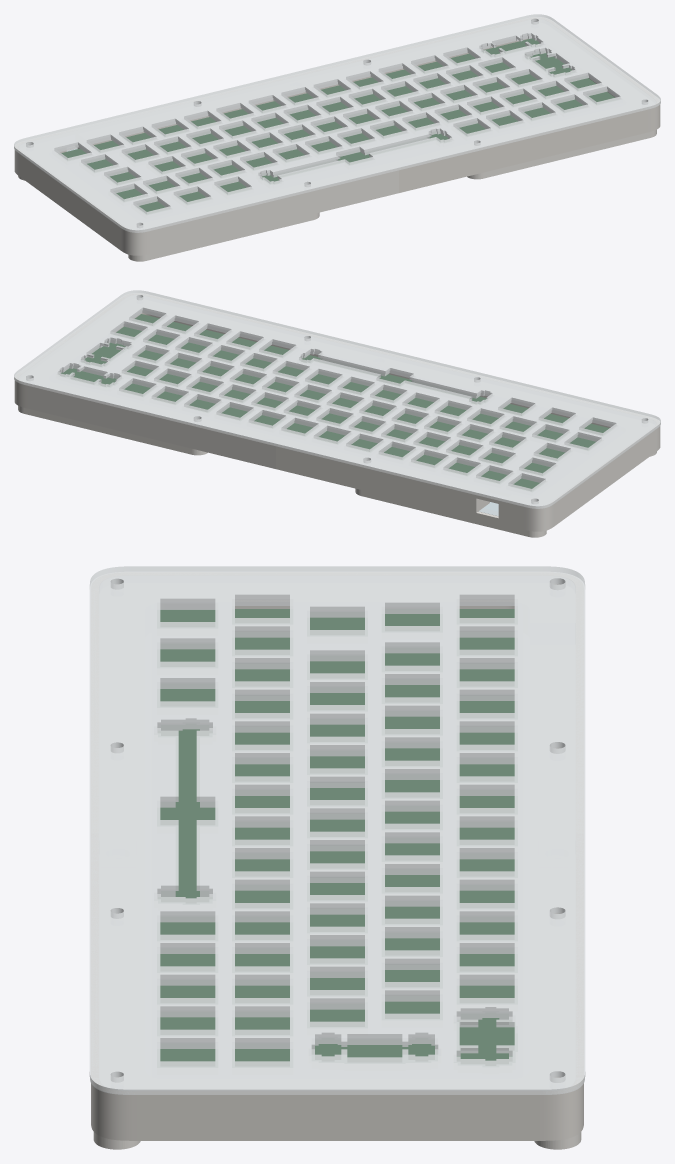
3 renders of one model, top to bottom at view 1: azimuth 30°, elevation 25°; view 2: azimuth 150°, elevation 25°; view 3: azimuth 270°, elevation 25°, orthographic. The views are drawn at different scales.
Parts seen in each view (by area): view 1: p0_top, p1_stiffener, p5_pcb, p2_frame_left, p3_frame_right, p6_foot_1, p8_foot_3; view 2: p0_top, p1_stiffener, p5_pcb, p2_frame_left, p3_frame_right, p7_foot_2, p9_foot_4; view 3: p0_top, p1_stiffener, p5_pcb, p3_frame_right, p2_frame_left.
Boxes of the visible parts, left/top/right/bottom form: p0_top: left=14, top=14, right=660, bottom=232; p1_stiffener: left=19, top=20, right=653, bottom=229; p5_pcb: left=61, top=38, right=614, bottom=211; p2_frame_left: left=14, top=80, right=398, bottom=255; p3_frame_right: left=277, top=17, right=660, bottom=192; p6_foot_1: left=128, top=212, right=319, bottom=261; p8_foot_3: left=467, top=129, right=656, bottom=179; p0_top: left=14, top=290, right=660, bottom=508; p1_stiffener: left=20, top=295, right=651, bottom=505; p5_pcb: left=61, top=314, right=609, bottom=488; p2_frame_left: left=276, top=356, right=660, bottom=531; p3_frame_right: left=14, top=293, right=397, bottom=468; p7_foot_2: left=355, top=488, right=546, bottom=537; p9_foot_4: left=18, top=405, right=207, bottom=455; p0_top: left=89, top=566, right=585, bottom=1094; p1_stiffener: left=100, top=576, right=574, bottom=1090; p5_pcb: left=160, top=609, right=514, bottom=1061; p3_frame_right: left=91, top=833, right=583, bottom=1140; p2_frame_left: left=91, top=572, right=583, bottom=832.
Bounding box in the file's own units: 315 × 18.3 × 126.
